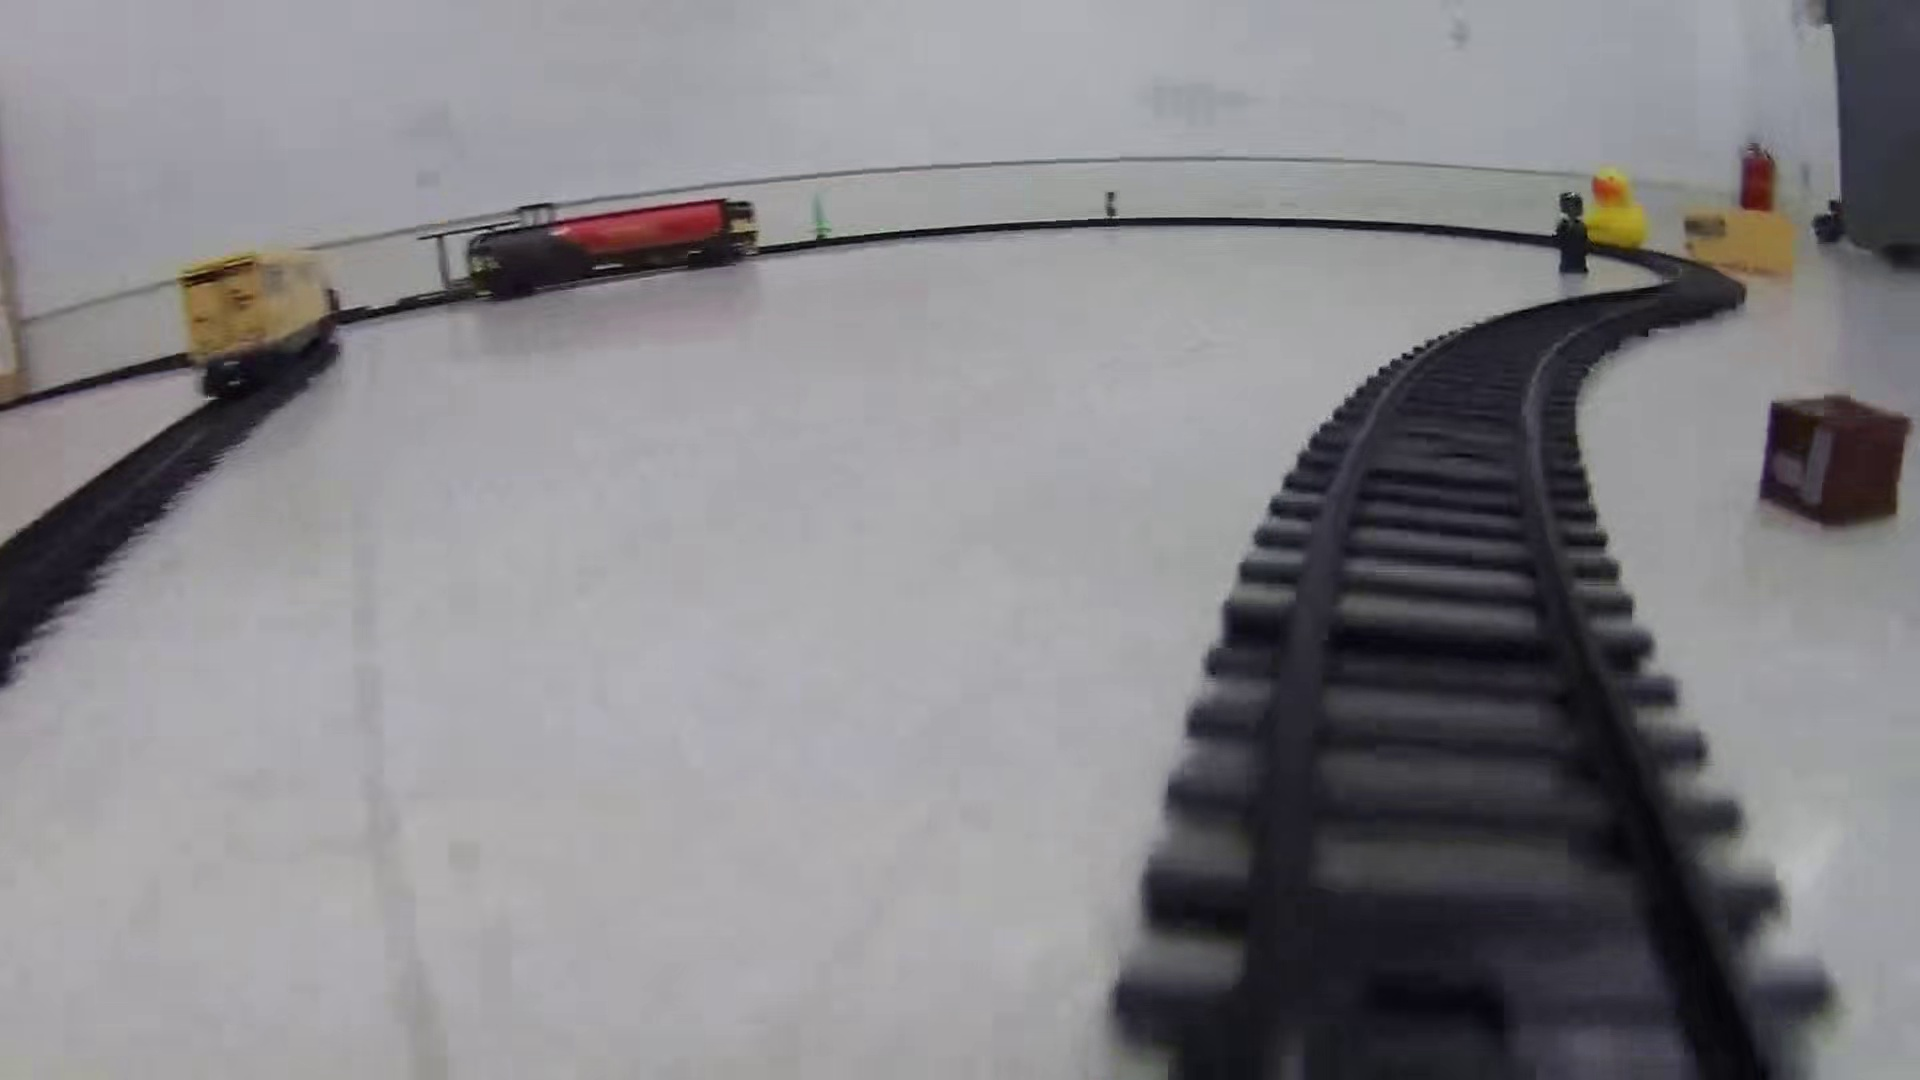box: (1757, 389, 1908, 537)
people: (1551, 189, 1597, 277)
